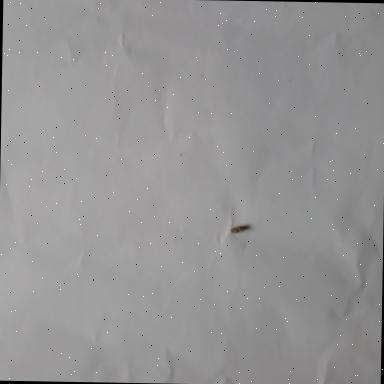pbw: (230, 224, 248, 236)
